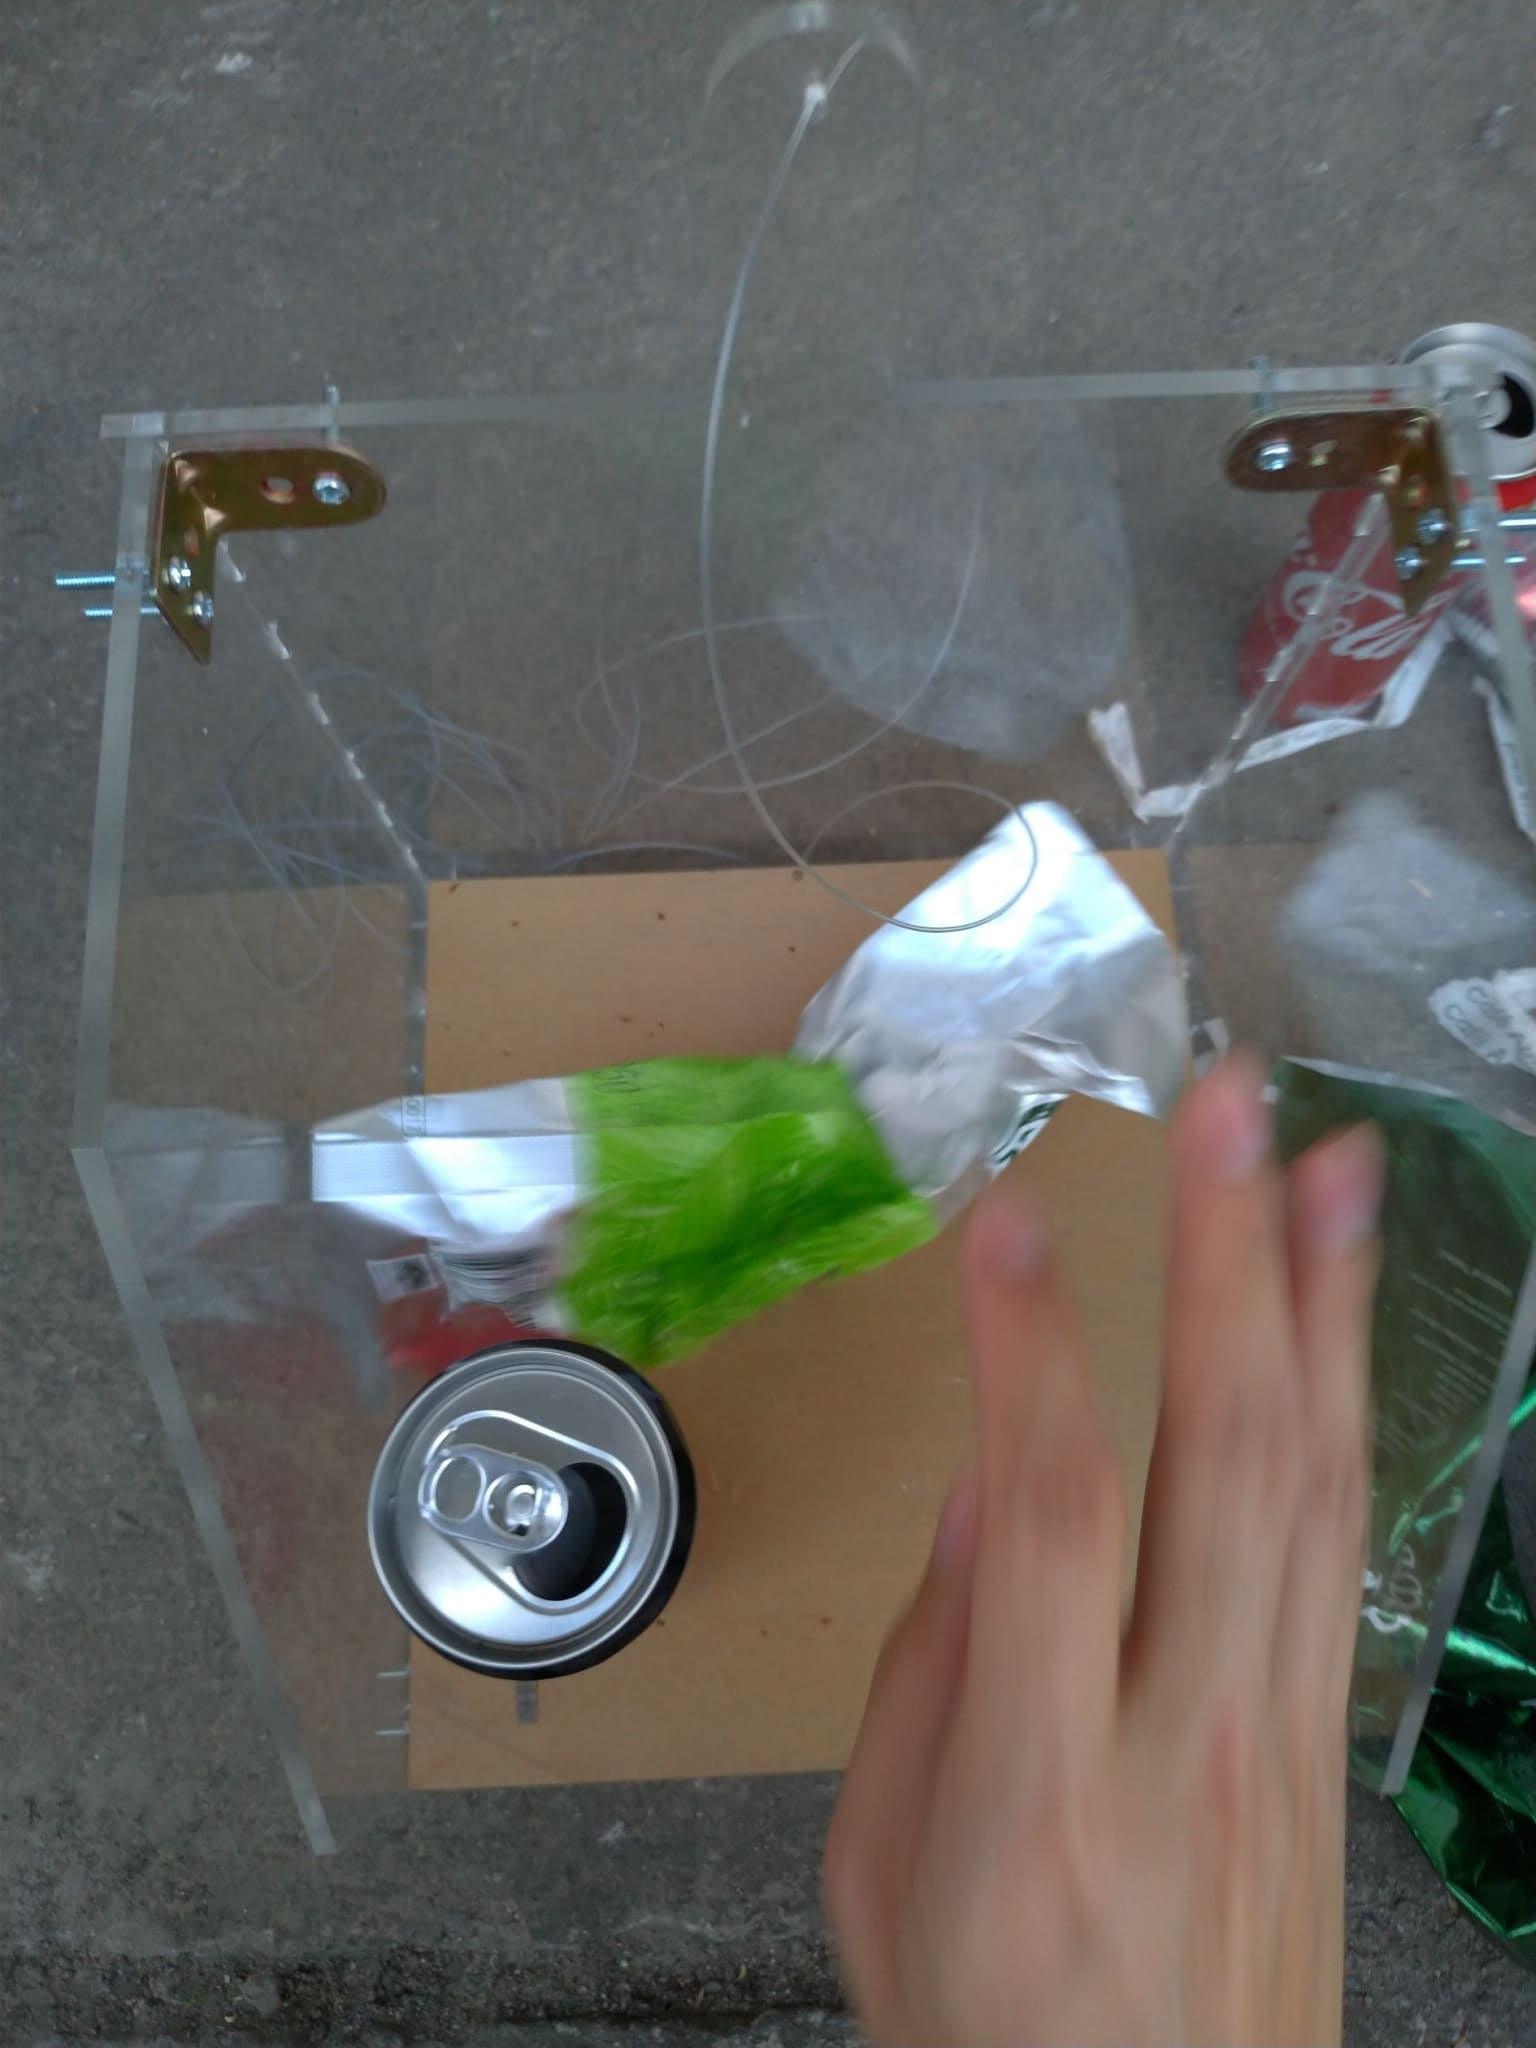AlCan: (1238, 319, 1536, 751), (374, 1348, 694, 1687)
Others: (310, 805, 1183, 1351), (1271, 1042, 1536, 1956), (1083, 614, 1447, 811), (1444, 661, 1536, 1050)
